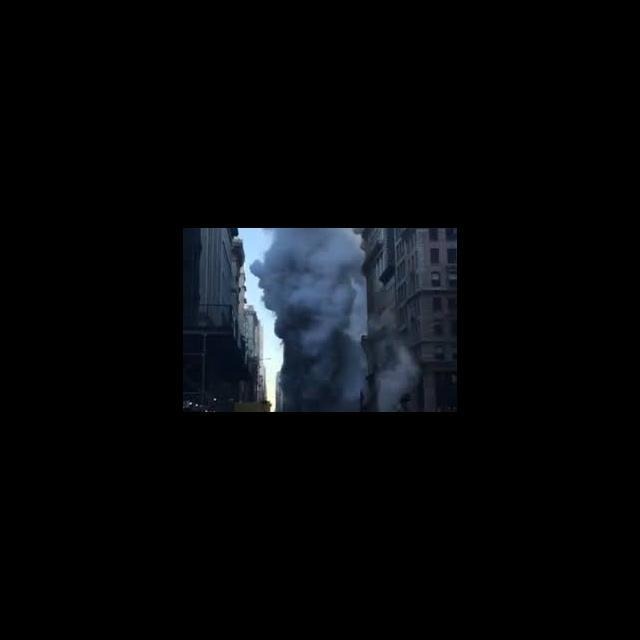Smoke: (260, 228, 362, 409)
